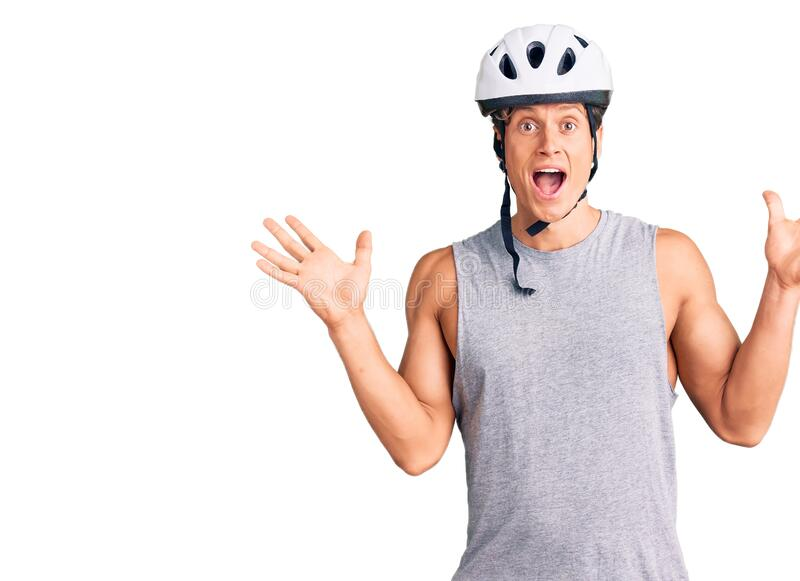helmet: (474, 23, 614, 223)
